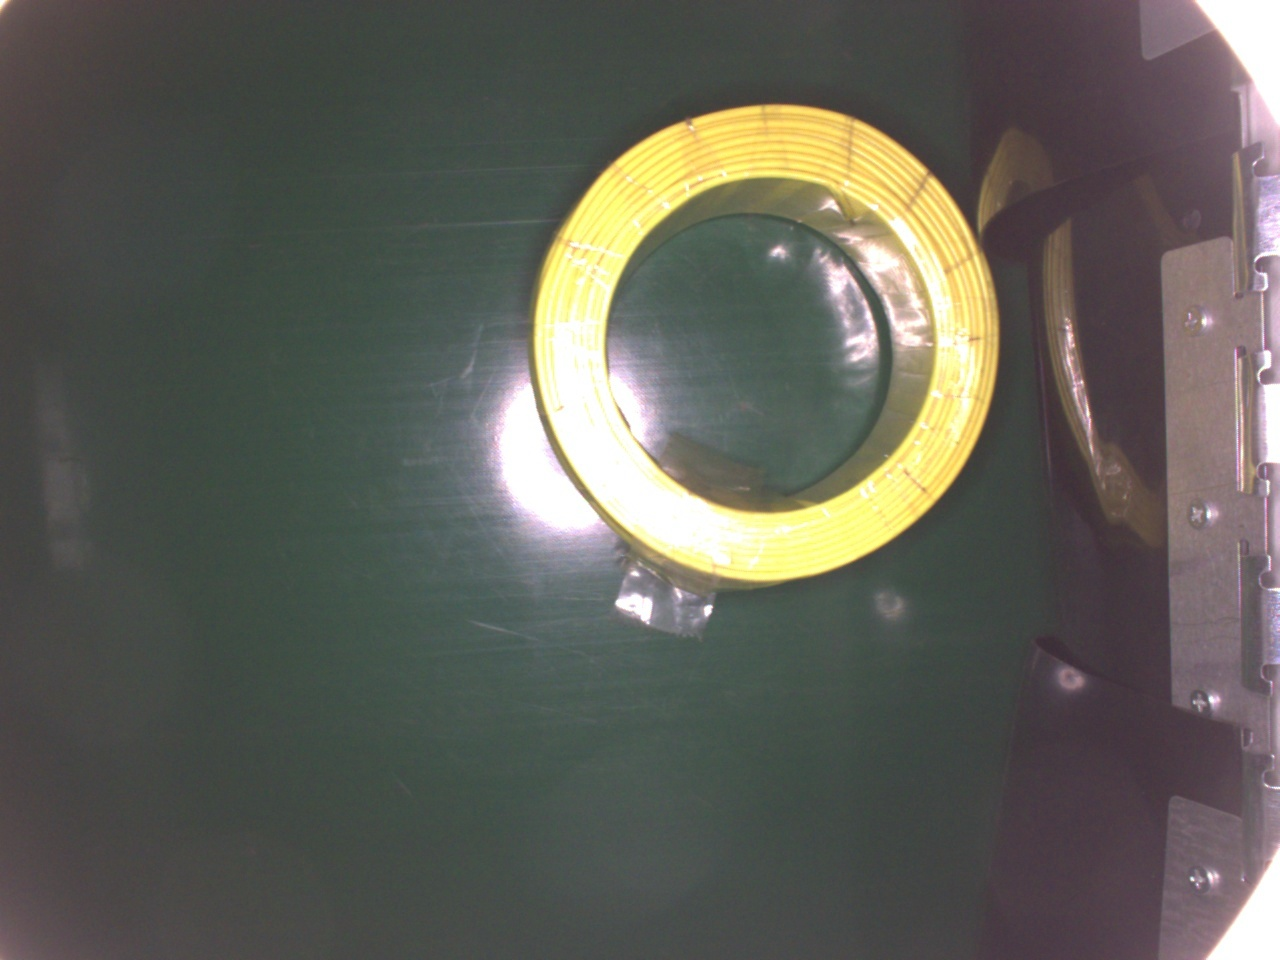yellow: (526, 100, 1002, 585)
